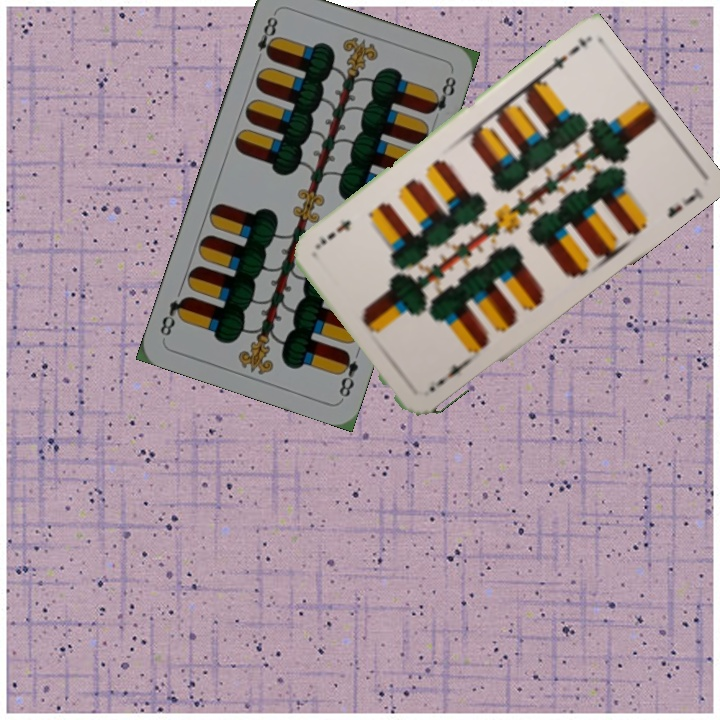E7: (425, 357, 470, 395), (538, 41, 583, 79)
E8: (251, 9, 281, 66), (334, 346, 361, 400)
